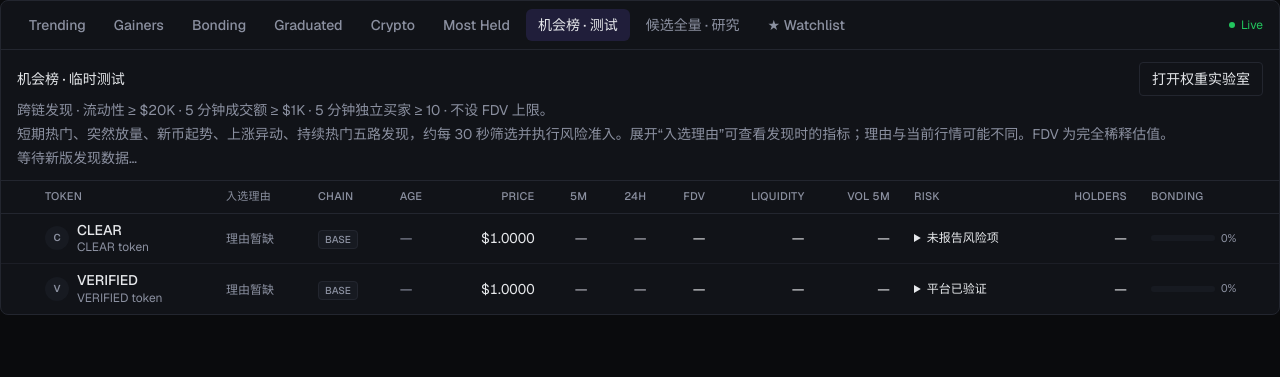
Scenario: 完整无风险项和平台验证提供准确说明，不打开不可用提示
Click the heading "未报告风险项".
click(963, 238)  # box [927,230,999,246]
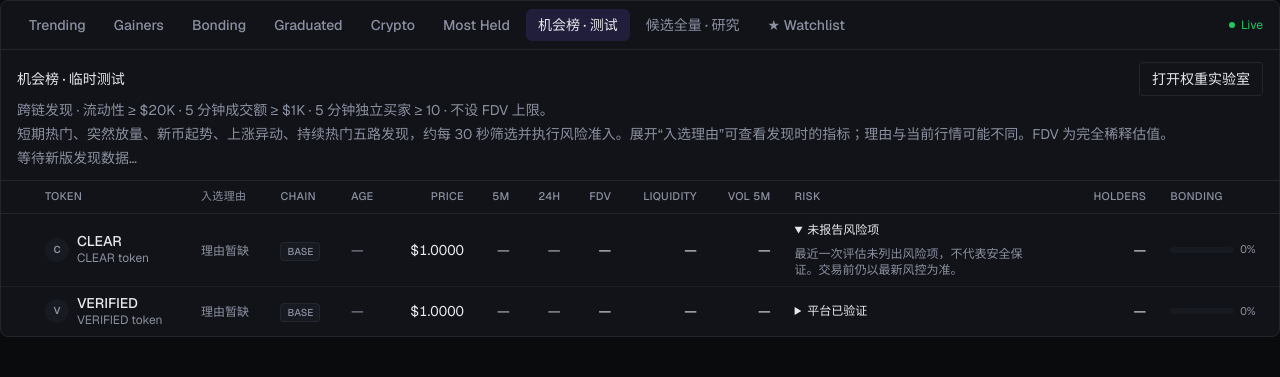
Expected: the text "最近一次评估未列出风险项，不代表安全保证。交易前仍以最新风控为准。" is shown, [795,246,1035,278]
Click the heading "平台已验证".
click(837, 312)  # box [807,304,867,320]
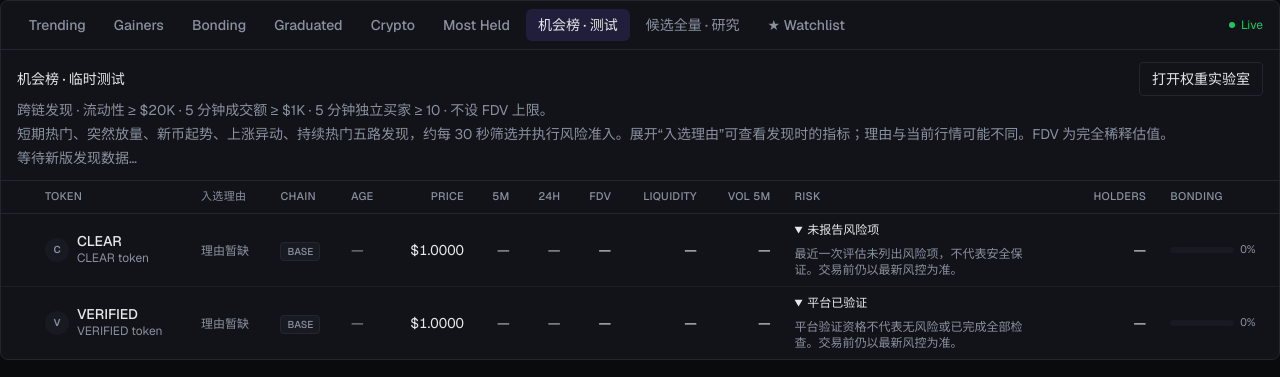
Expected: the text "平台验证资格不代表无风险或已完成全部检查。交易前仍以最新风控为准。" is shown, [795,319,1035,351]
